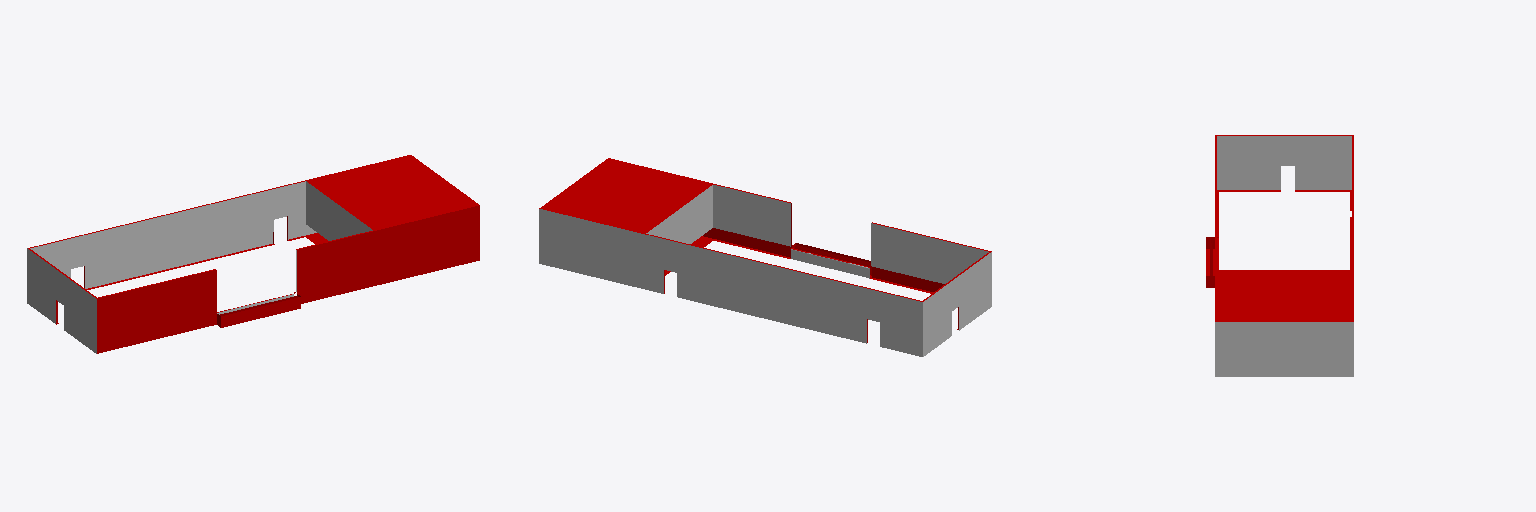
Rendered from SpeakeasyWalls.obj.
3 views of the same model, side by side, from view 1: azimuth 30°, elevation 25°; view 2: azimuth 150°, elevation 25°; view 3: azimuth 270°, elevation 25° (orthographic).
Parts seen in each view (by area): view 1: Plane.019_Plane.000; view 2: Plane.019_Plane.000; view 3: Plane.019_Plane.000.
Part boxes in pixels (left/top/right/bottom): Plane.019_Plane.000: left=27, top=155, right=479, bottom=353; Plane.019_Plane.000: left=539, top=158, right=991, bottom=356; Plane.019_Plane.000: left=1206, top=135, right=1353, bottom=376.
Bounding box in the file's own units: 36.4 × 5 × 12.11.